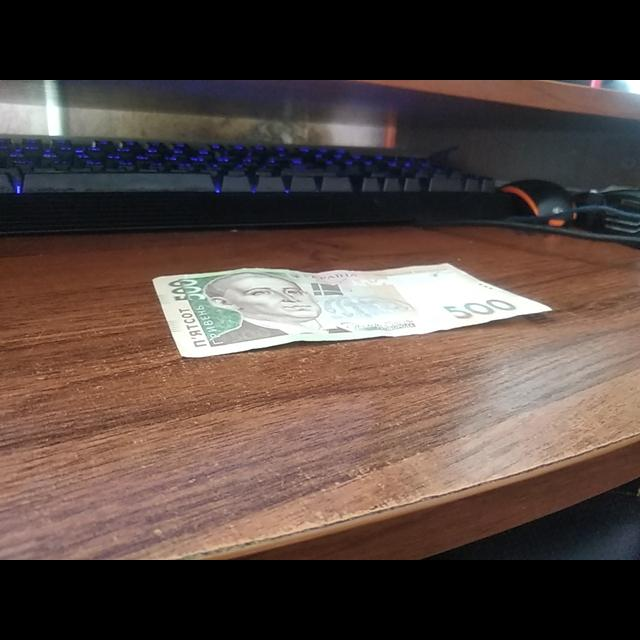500uah: (152, 263, 553, 358)
